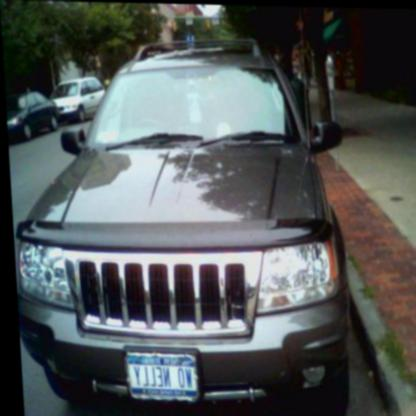License_Plate: (125, 350, 201, 402)
